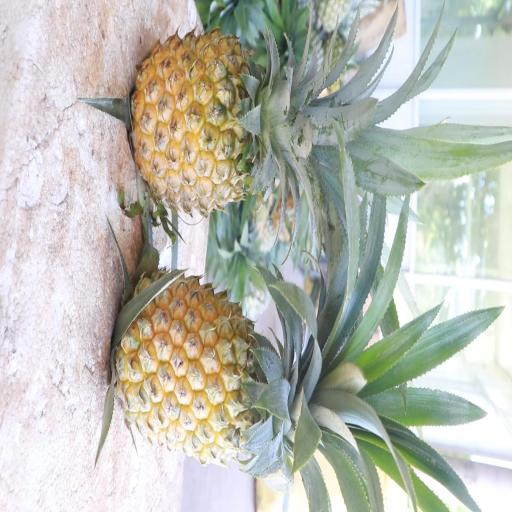Pineapple - v8 v1: (110, 266, 372, 472), (127, 25, 347, 222)
